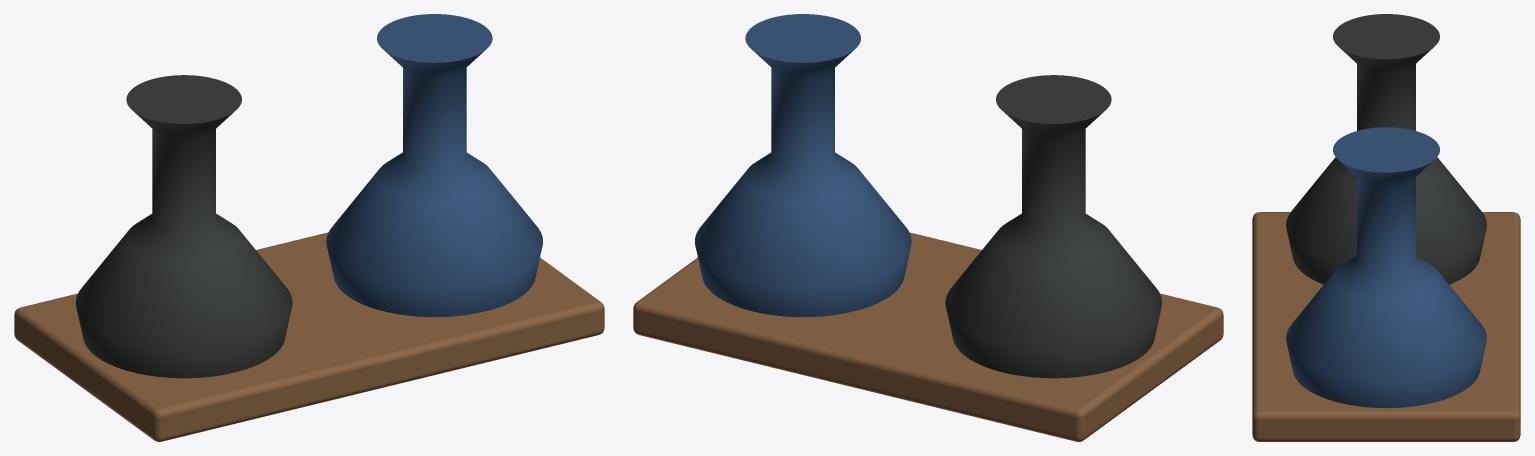
The model's file is fantasy-cartographers-map-printing-guild-ink-dabber-pa-663f7dea__32253.glb.
3 renders of one model, left to right at view 1: azimuth 30°, elevation 25°; view 2: azimuth 150°, elevation 25°; view 3: azimuth 270°, elevation 25°, orthographic. The views are drawn at different scales.
Visible parts, largest first — view 1: ink-dabber-pair; view 2: ink-dabber-pair; view 3: ink-dabber-pair.
Boxes of the visible parts, <box> form: ink-dabber-pair: <box>14,14,604,441</box>; ink-dabber-pair: <box>633,14,1223,441</box>; ink-dabber-pair: <box>1252,14,1520,441</box>.
Bounding box in the file's own units: 0.36 × 0.205 × 0.2.
